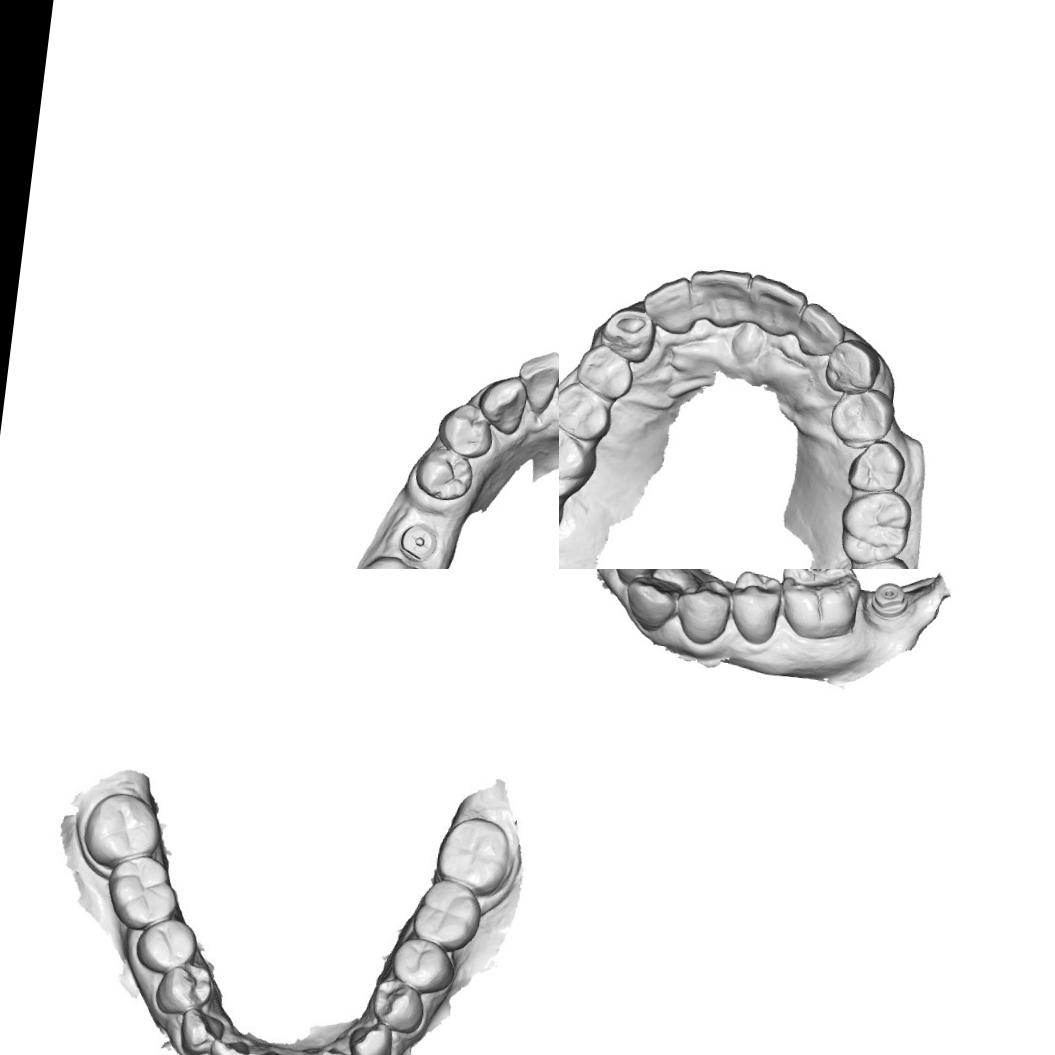canine: (472, 370, 532, 439), (822, 335, 884, 398), (598, 302, 660, 365), (622, 573, 683, 635), (343, 1013, 400, 1055), (176, 1011, 216, 1052)
implant: (868, 580, 912, 622)
implant_plus: (395, 516, 443, 568)
incisor: (684, 262, 752, 330), (744, 273, 810, 341), (638, 269, 698, 337), (512, 344, 559, 419), (794, 300, 849, 360), (602, 569, 667, 589), (207, 1037, 246, 1055), (318, 1046, 362, 1055), (241, 1046, 285, 1055)
molar: (78, 788, 167, 868), (773, 569, 865, 645), (835, 484, 916, 568), (435, 814, 516, 894), (105, 855, 182, 928), (409, 878, 485, 951), (559, 418, 599, 504), (840, 549, 913, 569)
premolar: (825, 382, 900, 454), (725, 569, 785, 647), (672, 574, 734, 648), (433, 397, 498, 464), (411, 442, 478, 506), (572, 340, 638, 403), (845, 435, 910, 498), (559, 378, 616, 444), (365, 974, 426, 1034), (392, 935, 456, 991), (156, 962, 221, 1016), (143, 920, 195, 965)
